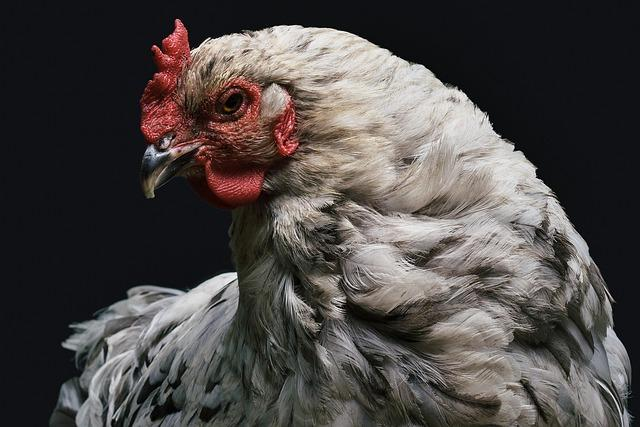Non_Gorille: (8, 0, 636, 427)
